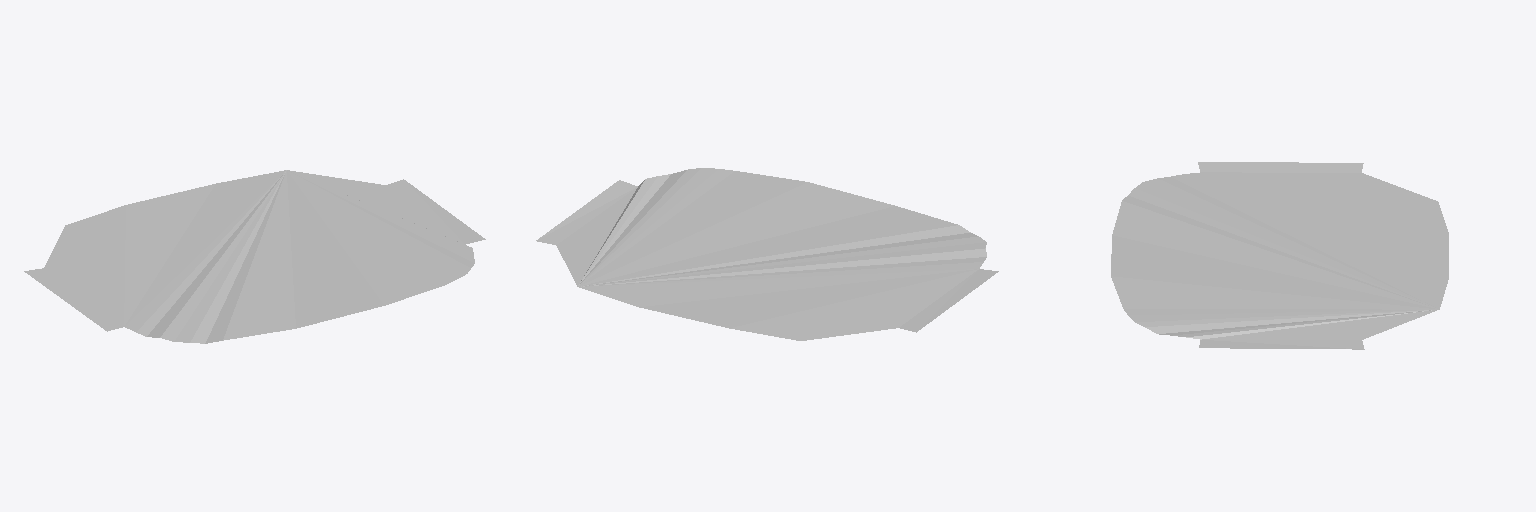
Rendered from original-6.obj.
3 renders of one model, left to right at view 1: azimuth 30°, elevation 25°; view 2: azimuth 150°, elevation 25°; view 3: azimuth 270°, elevation 25°, orthographic.
Parts seen in each view (by area): view 1: mesh6/mesh6-geometry#mesh6-geometry; view 2: mesh6/mesh6-geometry#mesh6-geometry; view 3: mesh6/mesh6-geometry#mesh6-geometry.
Part boxes in pixels (bbox=[...]): mesh6/mesh6-geometry#mesh6-geometry: bbox=[24, 170, 485, 343]; mesh6/mesh6-geometry#mesh6-geometry: bbox=[536, 168, 998, 340]; mesh6/mesh6-geometry#mesh6-geometry: bbox=[1111, 162, 1448, 349].
Bounding box in the file's own units: 0.0276 × 0.0002 × 0.0213.